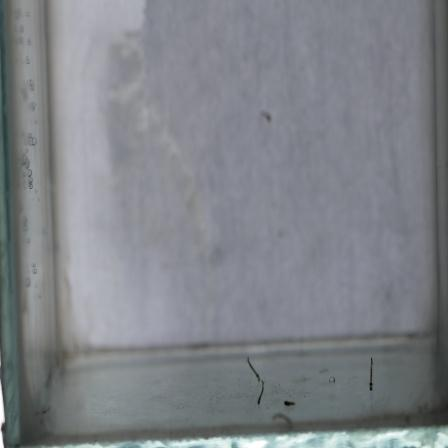Jentik-Nyamuk: (243, 350, 269, 407), (362, 352, 382, 395), (278, 394, 298, 412)
